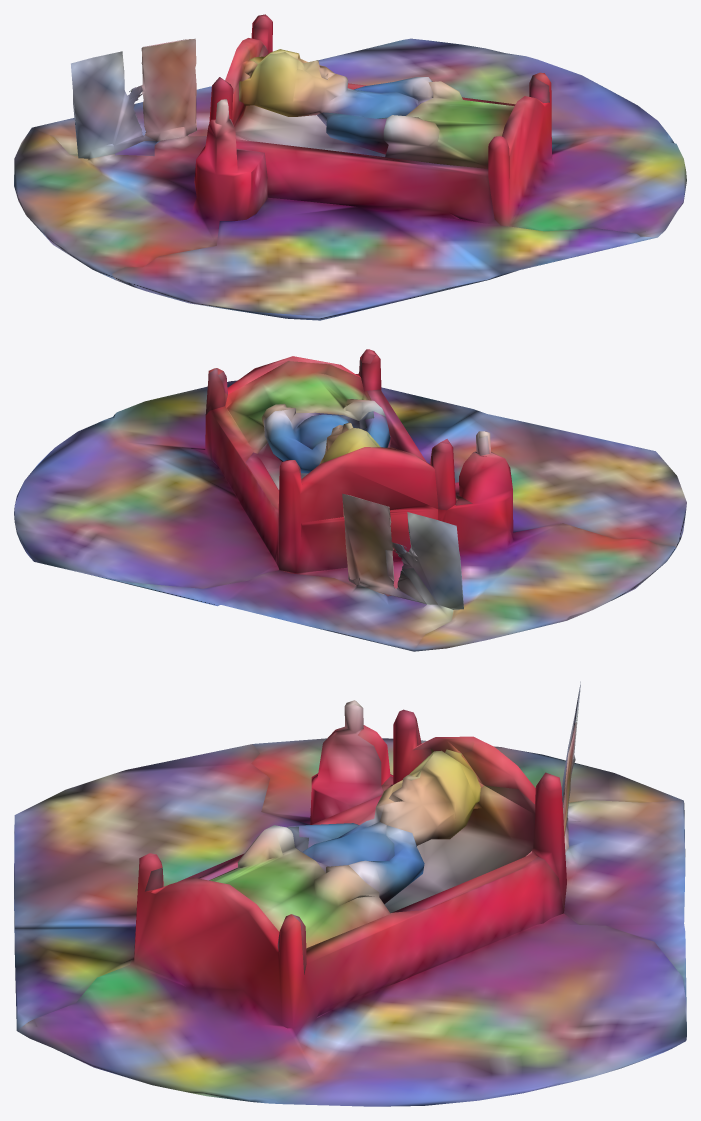
The model's file is Hasbro_Dont_Wake_Daddy_Board_Game_NJnjGna4u1a-medium.glb.
3 views of the same model, one above another, from view 1: azimuth 30°, elevation 25°; view 2: azimuth 150°, elevation 25°; view 3: azimuth 270°, elevation 25° (orthographic). The views are drawn at different scales.
Visible parts, largest first — view 1: Hasbro_Dont_Wake_Daddy_Board_Game_NJnjGna4u1a; view 2: Hasbro_Dont_Wake_Daddy_Board_Game_NJnjGna4u1a; view 3: Hasbro_Dont_Wake_Daddy_Board_Game_NJnjGna4u1a.
Part boxes in pixels (x1,y1,x2,y2): Hasbro_Dont_Wake_Daddy_Board_Game_NJnjGna4u1a: [14, 14, 686, 320]; Hasbro_Dont_Wake_Daddy_Board_Game_NJnjGna4u1a: [14, 349, 686, 651]; Hasbro_Dont_Wake_Daddy_Board_Game_NJnjGna4u1a: [14, 681, 686, 1106].
Size of the model in its own units: 0.5005 by 0.0974 by 0.3945.
1 material, 1 textured.
